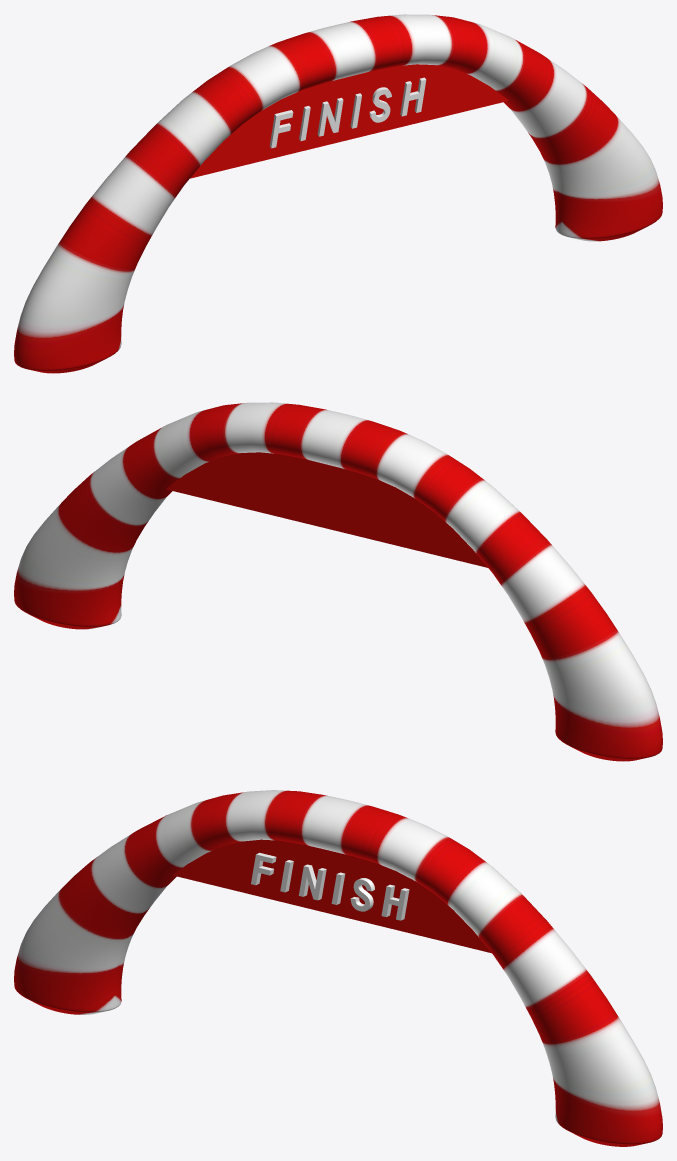
Rendered from finish line9.fbx.
3 views of the same model, one above another, from view 1: azimuth 30°, elevation 25°; view 2: azimuth 150°, elevation 25°; view 3: azimuth 330°, elevation 25° (orthographic).
Visible parts, largest first — view 1: pCylinder29; view 2: pCylinder29; view 3: pCylinder29.
Part boxes in pixels (box(x1,y1,x2,y2)): pCylinder29: box(14, 14, 662, 373); pCylinder29: box(14, 402, 662, 761); pCylinder29: box(14, 790, 662, 1146).
Size of the model in its own units: 1376 by 551 by 127.
